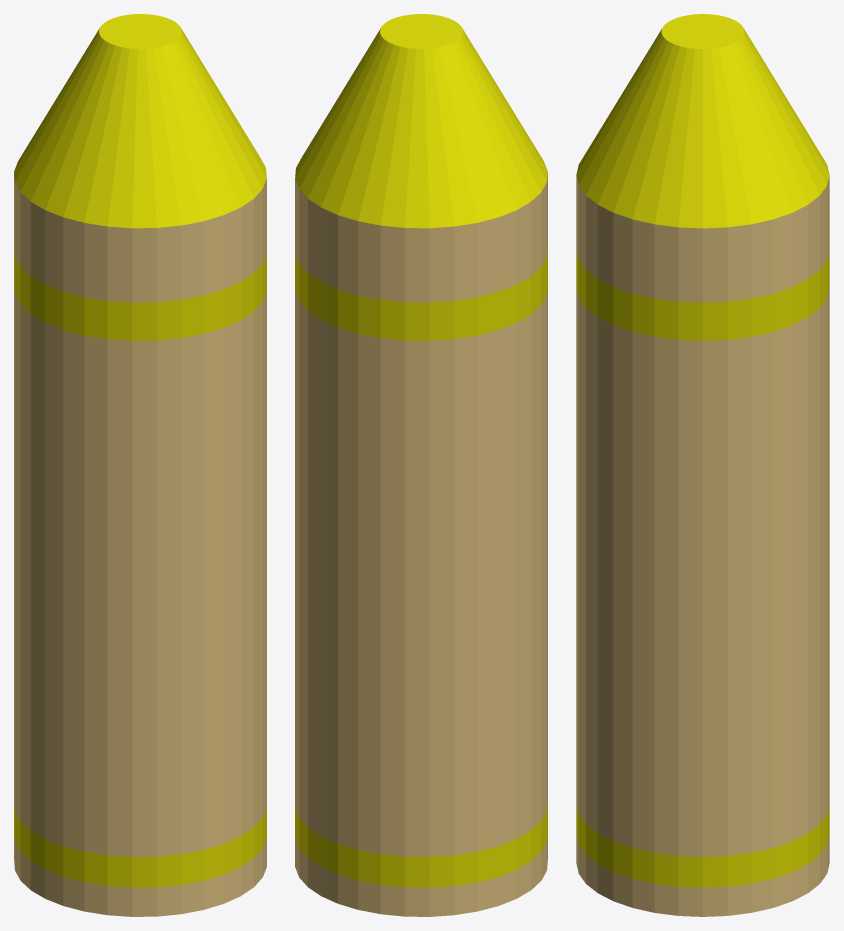
Rendered from crayon yellow.fbx.
The picture shows the model from 3 angles, left to right: view 1: azimuth 30°, elevation 25°; view 2: azimuth 150°, elevation 25°; view 3: azimuth 270°, elevation 25°; orthographic projection.
Parts seen in each view (by area): view 1: Cylinder; view 2: Cylinder; view 3: Cylinder.
Part boxes in pixels (x1=…): Cylinder: x1=14, y1=14, x2=266, y2=916; Cylinder: x1=295, y1=14, x2=547, y2=916; Cylinder: x1=576, y1=14, x2=829, y2=916.
Bounding box in the file's own units: 20 × 72.49 × 20.
